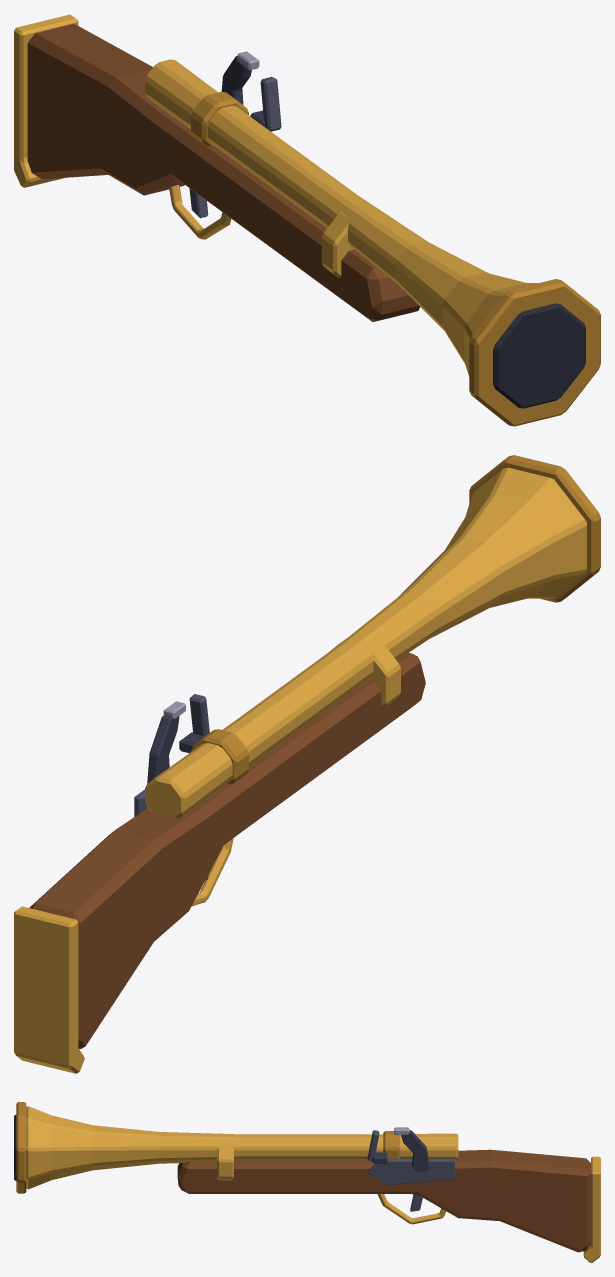
File: myw_blunderbuss.glb
3 renders of one model, top to bottom at view 1: azimuth 30°, elevation 25°; view 2: azimuth 150°, elevation 25°; view 3: azimuth 270°, elevation 25°, orthographic. The views are drawn at different scales.
Parts seen in each view (by area): view 1: Barrel, Stock, Fittings, Hammer, Lock; view 2: Barrel, Stock, Fittings, Hammer, Lock; view 3: Stock, Barrel, Fittings, Lock, Hammer.
Boxes of the visible parts, <box> form: Barrel: <box>145,59,600,426</box>; Stock: <box>27,24,419,321</box>; Fittings: <box>14,14,353,278</box>; Hammer: <box>221,51,259,104</box>; Lock: <box>250,77,281,131</box>; Barrel: <box>145,455,600,817</box>; Stock: <box>29,652,425,1049</box>; Fittings: <box>14,638,400,1073</box>; Hammer: <box>147,701,185,783</box>; Lock: <box>134,694,209,816</box>; Stock: <box>177,1149,590,1252</box>; Barrel: <box>14,1102,458,1193</box>; Fittings: <box>217,1144,600,1262</box>; Lock: <box>367,1130,454,1184</box>; Hammer: <box>394,1127,429,1172</box>.
Bounding box in the file's own units: 0.5174 × 0.9723 × 3.53.
